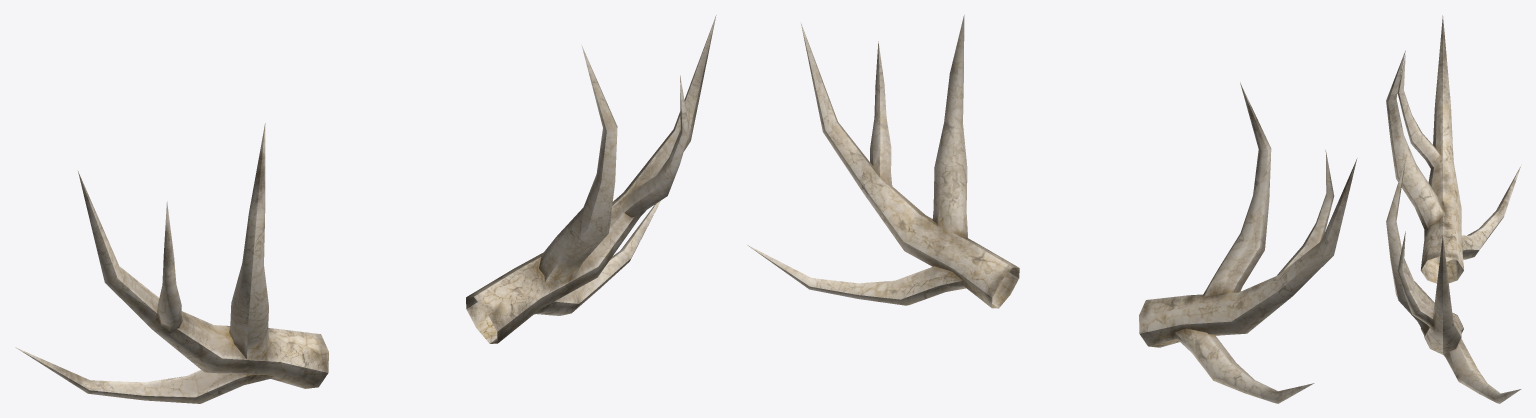
File: HEAD_ELK_ANTLERS.fbx
3 views of the same model, side by side, from view 1: azimuth 30°, elevation 25°; view 2: azimuth 150°, elevation 25°; view 3: azimuth 270°, elevation 25° (orthographic). The views are drawn at different scales.
Visible parts, largest first — view 1: HEAD_ELK_ANTLERS; view 2: HEAD_ELK_ANTLERS; view 3: HEAD_ELK_ANTLERS.
Part boxes in pixels (x1,y1,x2,y2): HEAD_ELK_ANTLERS: (15, 15, 716, 403); HEAD_ELK_ANTLERS: (747, 15, 1357, 403); HEAD_ELK_ANTLERS: (1386, 15, 1521, 403).
Bounding box in the file's own units: 0.057 × 0.0257 × 0.0145.
